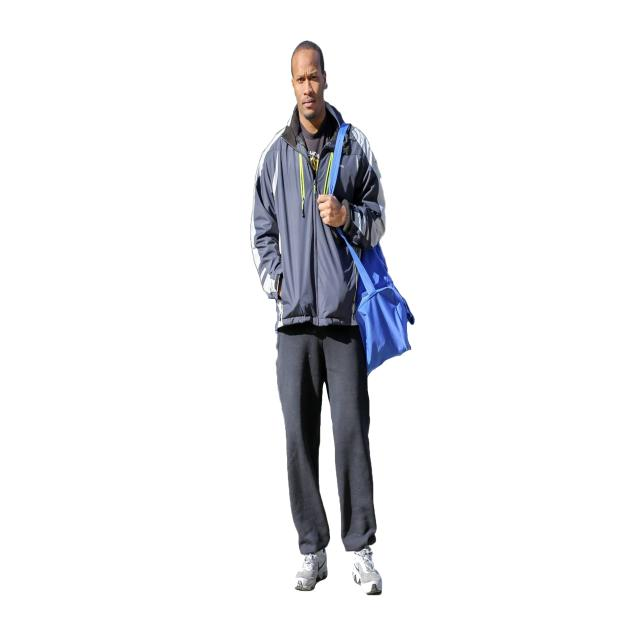jovem: (249, 26, 396, 606)
